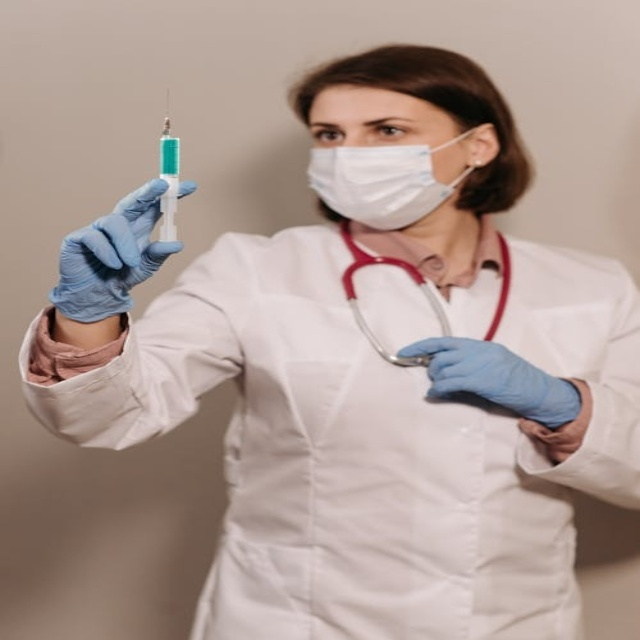Guantes: (49, 177, 196, 322), (396, 336, 580, 430)
Mascara: (309, 125, 483, 229)
Sin_gafas: (306, 109, 447, 145)
